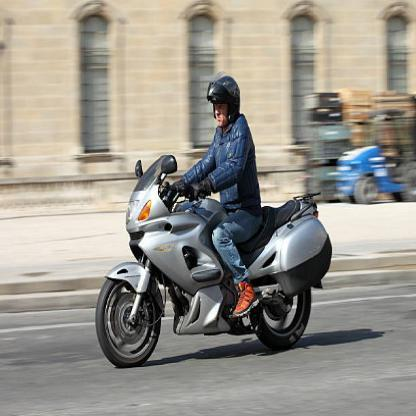Motorcycle: (91, 140, 330, 366)
